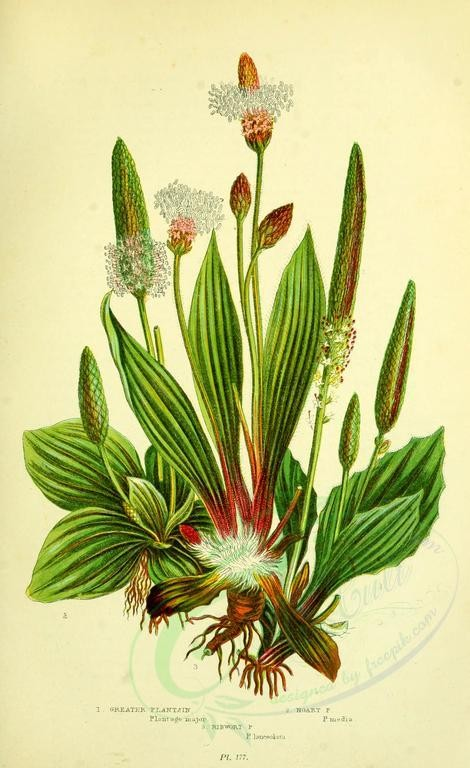buckhorn plantain: (59, 33, 436, 696)
